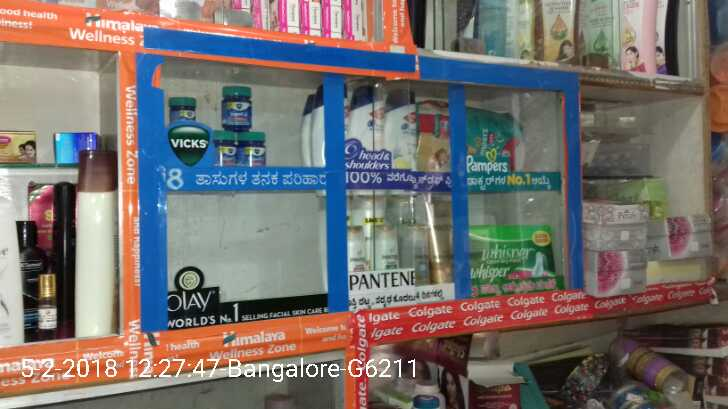beauty: (381, 84, 417, 175), (348, 84, 381, 168), (370, 226, 402, 292), (406, 218, 434, 286)
pharmacy: (468, 222, 554, 282), (463, 110, 518, 174), (218, 84, 254, 131), (239, 129, 268, 172), (212, 133, 237, 167)
